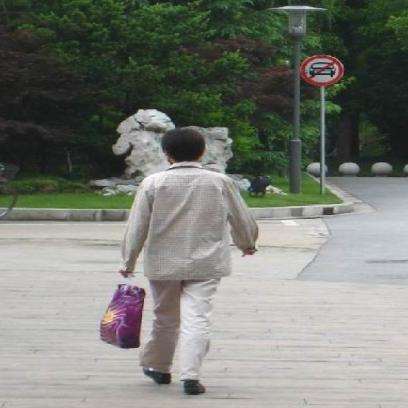ped: (123, 131, 260, 395)
